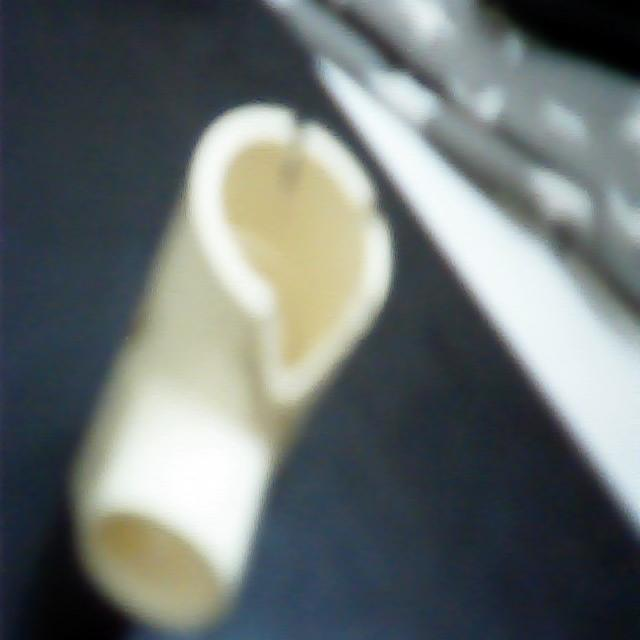Defective: (249, 159, 347, 405)
T Joint: (70, 102, 396, 640)
